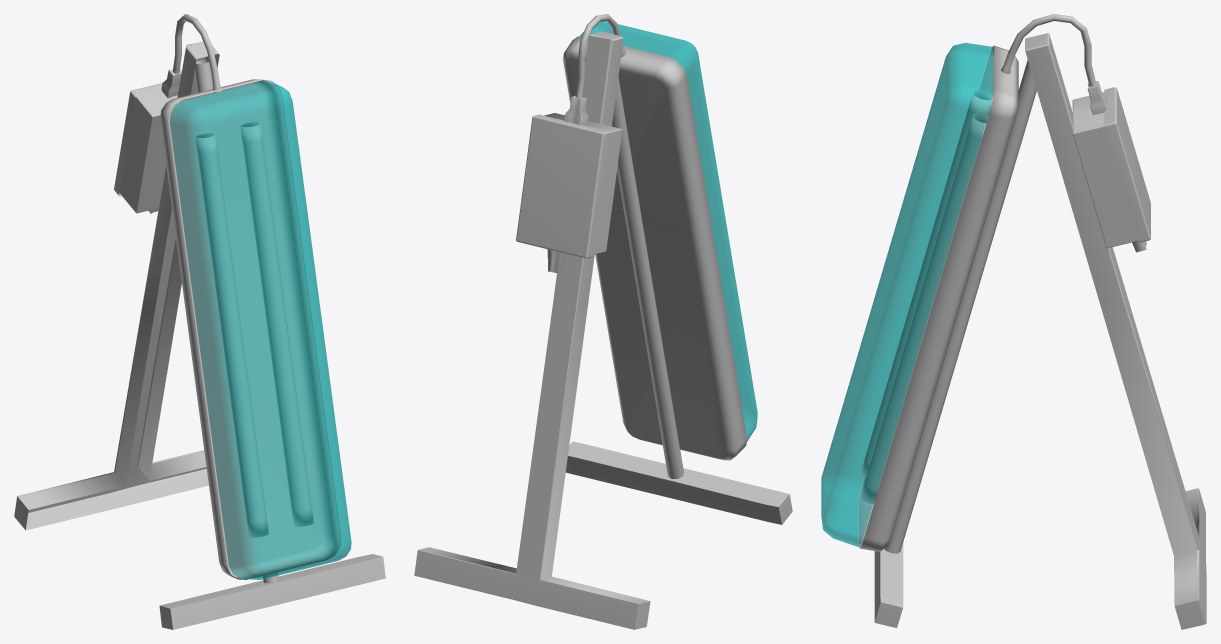
Rendered from Construction Light_lo.fbx.
3 views of the same model, side by side, from view 1: azimuth 30°, elevation 25°; view 2: azimuth 150°, elevation 25°; view 3: azimuth 270°, elevation 25° (orthographic). The views are drawn at different scales.
Parts seen in each view (by area): view 1: Light_Base, Glass_Front, Light_Bulbs; view 2: Light_Base, Glass_Front; view 3: Light_Base, Glass_Front, Light_Bulbs.
Boxes of the visible parts, box(x1,y1,x2,y2) form: Light_Base: box(14, 14, 385, 629); Glass_Front: box(170, 81, 351, 579); Light_Bulbs: box(195, 122, 313, 537); Light_Base: box(414, 14, 792, 629); Glass_Front: box(579, 21, 757, 441); Light_Base: box(859, 14, 1206, 629); Glass_Front: box(821, 42, 993, 546); Light_Bulbs: box(860, 90, 992, 504).
Bounding box in the file's own units: 0.7108 × 1.66 × 1.03.
